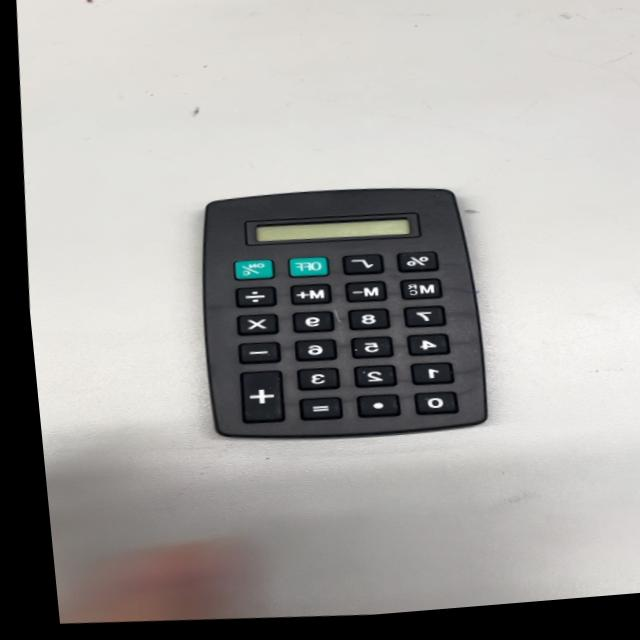calculator: (173, 164, 506, 464)
